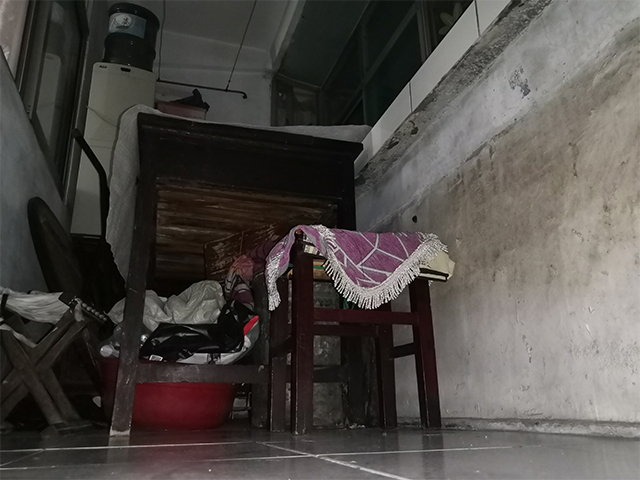stool: (263, 221, 457, 435), (1, 286, 112, 443)
table: (106, 109, 368, 443)
